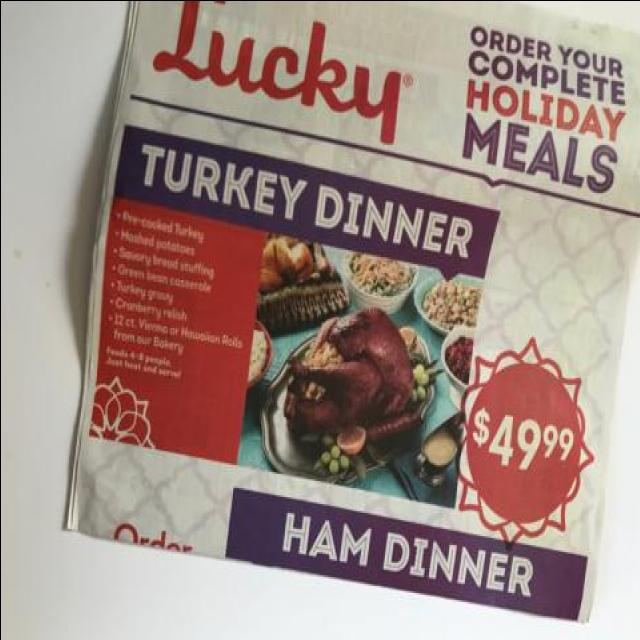kertas: (57, 0, 640, 633)
